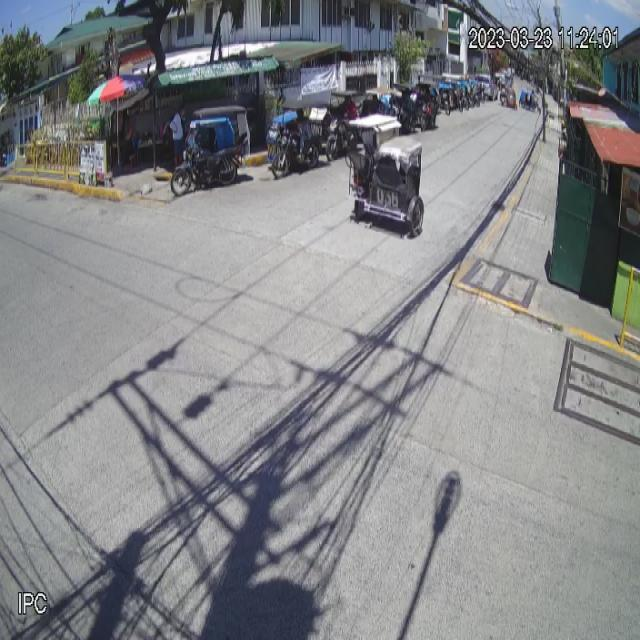Tricycle: (346, 113, 425, 237), (170, 106, 250, 196)
